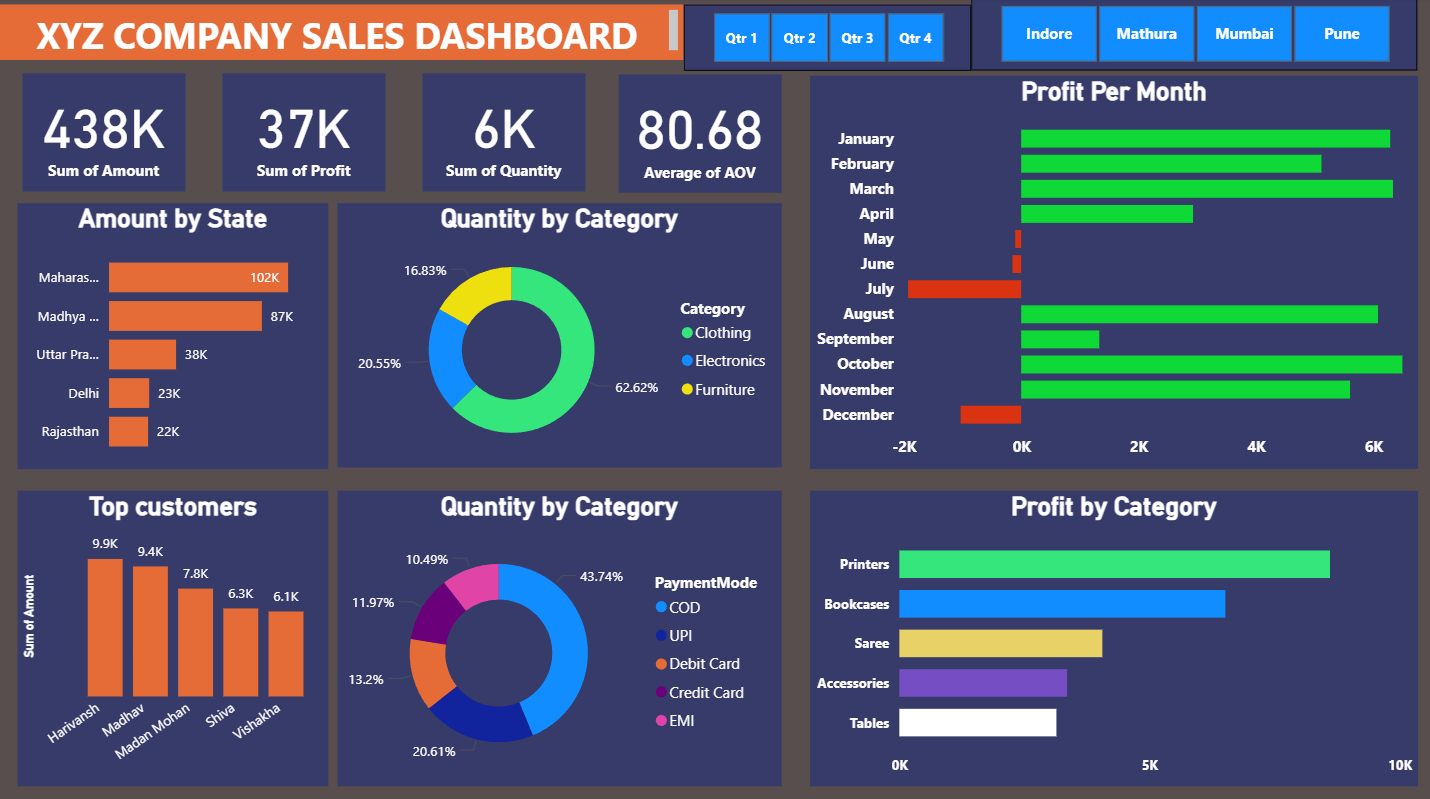

The page's visual inventory and layout, read from the dashboard file:
{"tool":"powerbi","page":{"name":"Dashboard","canvas":[1280,720],"ordinal":0},"visuals":[{"type":"clusteredBarChart","title":"Profit Per Month","fields":{"Category":["Order.Order Date.Variation.Date Hierarchy.Month"],"Y":["Details.Profit"]},"box":[723.2,70,543.4,351.3],"z":0},{"type":"textbox","box":[0,6.9,610.6,49.4],"z":1000},{"type":"clusteredBarChart","title":" Profit by Category","fields":{"Category":["Details.Sub-Category"],"Y":["Details.Profit"]},"box":[723.3,440.7,543,264],"z":2000},{"type":"donutChart","title":"Quantity by Category","fields":{"Category":["Details.Category"],"Y":["Details.Quantity"]},"box":[301.2,183.7,396.5,236],"z":3000},{"type":"donutChart","title":"Quantity by Category","fields":{"Y":["Details.Quantity"],"Category":["Details.PaymentMode"]},"box":[301.2,440.7,396.5,264],"z":4000},{"type":"card","fields":{"Values":["Details.Amount"]},"box":[19.8,68.6,145.3,105.8],"z":5000},{"type":"card","fields":{"Values":["Details.Profit"]},"box":[198.8,68.6,145.3,105.8],"z":6000},{"type":"card","fields":{"Values":["Details.Quantity"]},"box":[377.9,68.6,145.3,105.8],"z":7000},{"type":"card","fields":{"Values":["Details.AOV"]},"box":[552.3,69.8,145.3,105.8],"z":8000},{"type":"clusteredBarChart","title":" Amount by State","fields":{"Category":["Order.State"],"Y":["Details.Amount"]},"box":[15.1,183.7,277.9,237.2],"z":9000},{"type":"columnChart","title":" Top customers","fields":{"Category":["Order.Customer Name"],"Y":["Details.Amount"]},"box":[15.1,440.7,277.9,264],"z":10000},{"type":"slicer","fields":{"Values":["Order.Order Date.Variation.Date Hierarchy.Quarter"]},"box":[610.8,6.7,256.8,59.2],"z":11000},{"type":"slicer","fields":{"Values":["Order.City"]},"box":[867.6,0,398.6,65.9],"z":12000}]}

Visuals, with their boxes in screenshot pixels (x1, y1, x2, y2), scaled from the page's 1280x720 canvas onto the 1430x799 screenshot:
"Profit Per Month" clusteredBarChart: {"left": 808, "top": 78, "right": 1415, "bottom": 468}
textbox: {"left": 0, "top": 8, "right": 682, "bottom": 62}
" Profit by Category" clusteredBarChart: {"left": 808, "top": 489, "right": 1415, "bottom": 782}
"Quantity by Category" donutChart: {"left": 336, "top": 204, "right": 779, "bottom": 466}
"Quantity by Category" donutChart: {"left": 336, "top": 489, "right": 779, "bottom": 782}
card - Details.Amount: {"left": 22, "top": 76, "right": 184, "bottom": 194}
card - Details.Profit: {"left": 222, "top": 76, "right": 384, "bottom": 194}
card - Details.Quantity: {"left": 422, "top": 76, "right": 585, "bottom": 194}
card - Details.AOV: {"left": 617, "top": 77, "right": 779, "bottom": 195}
" Amount by State" clusteredBarChart: {"left": 17, "top": 204, "right": 327, "bottom": 467}
" Top customers" columnChart: {"left": 17, "top": 489, "right": 327, "bottom": 782}
slicer - Order.Order Date.Variation.Date Hierarchy.Quarter: {"left": 682, "top": 7, "right": 969, "bottom": 73}
slicer - Order.City: {"left": 969, "top": 0, "right": 1415, "bottom": 73}
